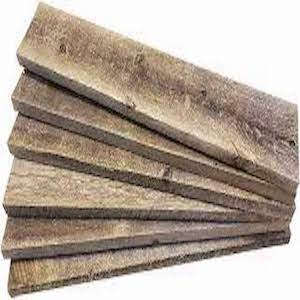combustible: (12, 48, 293, 246)
